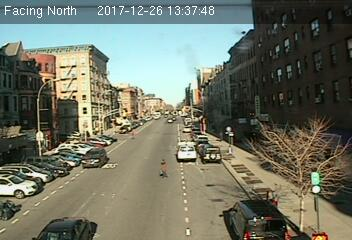car: (81, 148, 109, 170), (201, 146, 221, 163)
truck: (176, 143, 197, 161)
